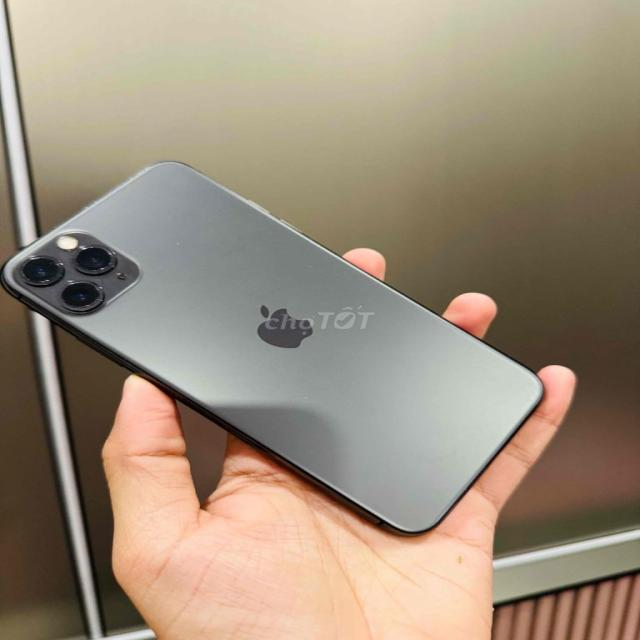gen_11: (10, 153, 551, 540)
